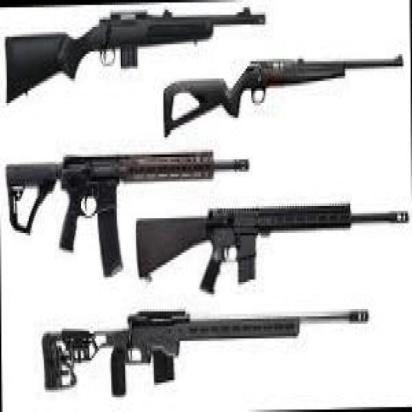Gun: (41, 302, 374, 402), (133, 194, 411, 294), (3, 5, 265, 74)
